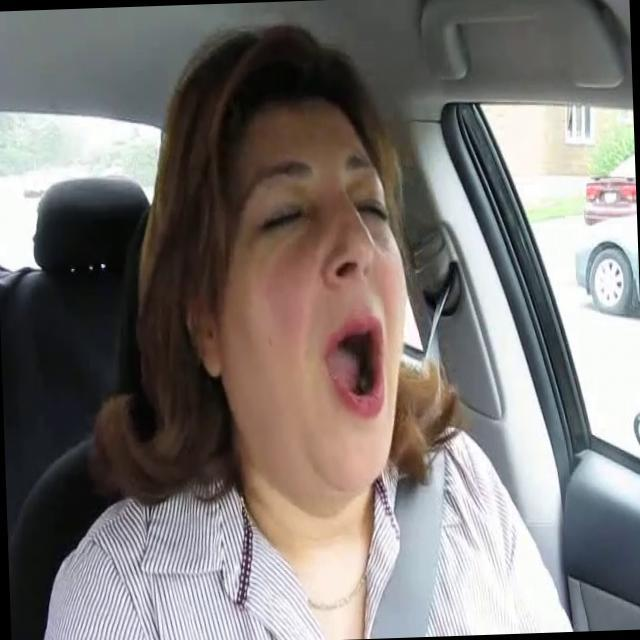Yawning: (321, 311, 396, 424)
